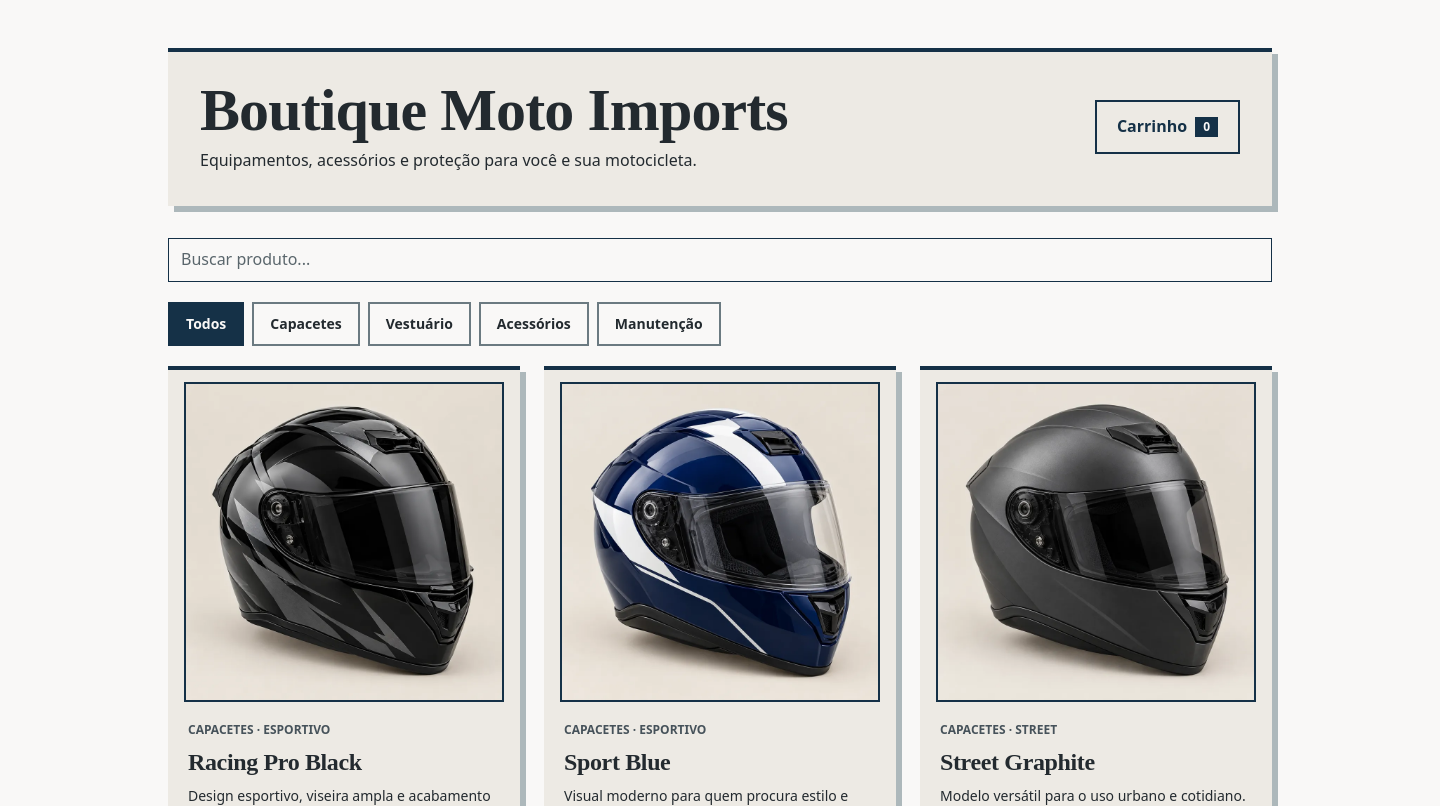
Test: Boutique · carrinho › começa com zero itens e carrinho vazio
Click the button "Carrinho 0".
click(1167, 127)  # box [1095,100,1240,154]
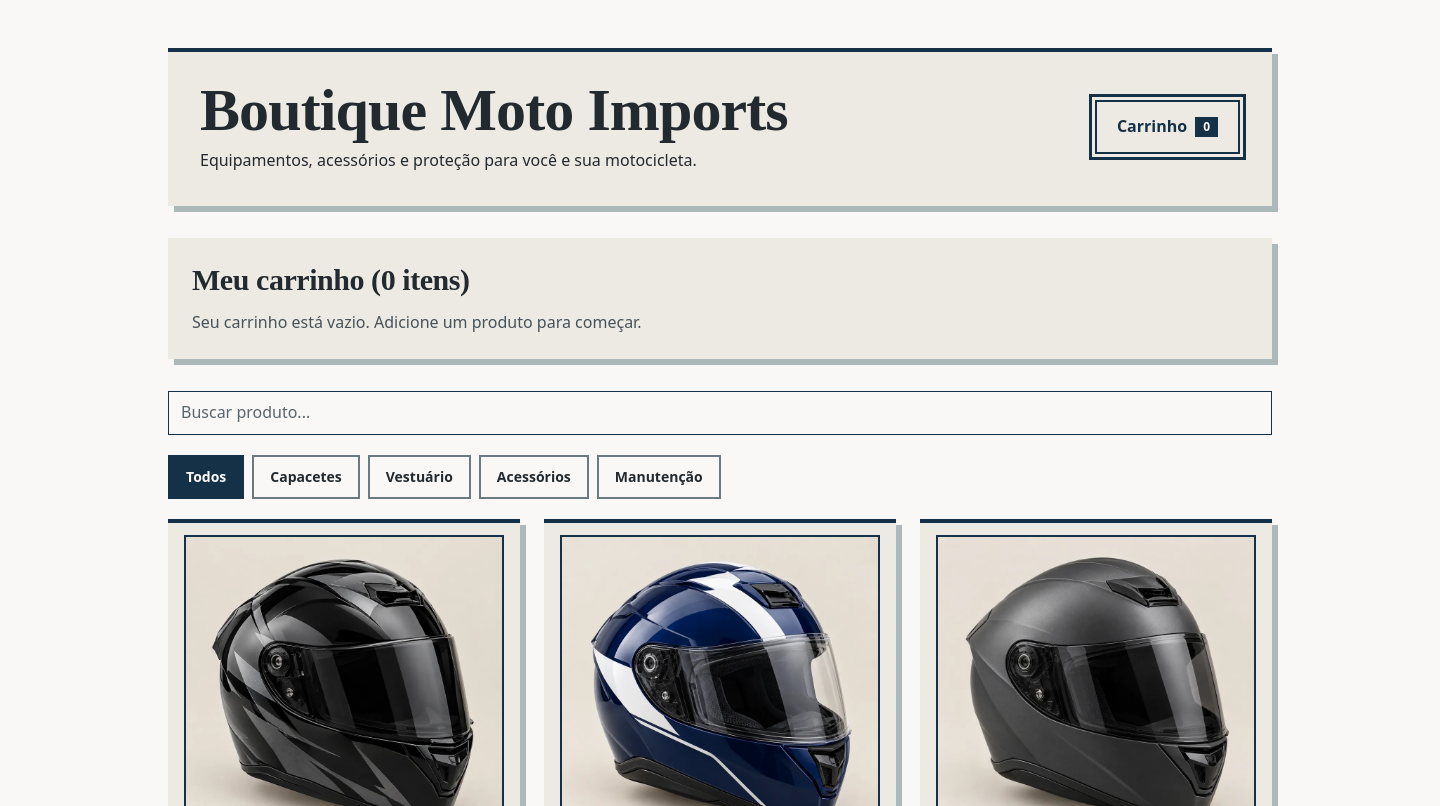
Expected: the text "Seu carrinho está vazio. Adicione um produto para começar." is shown, [192,311,642,333]
